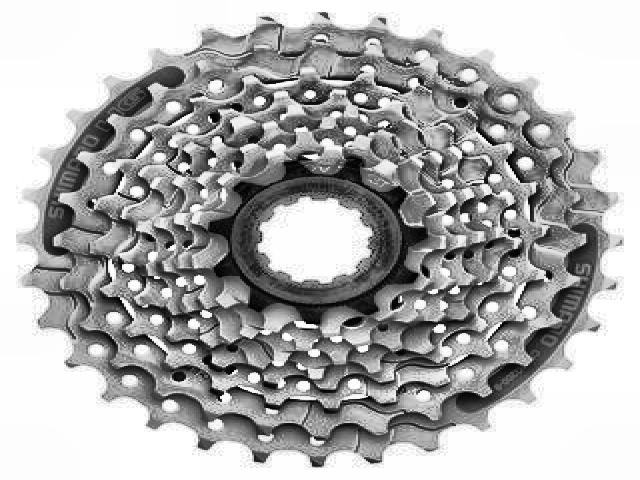cassette: (13, 12, 625, 465)
